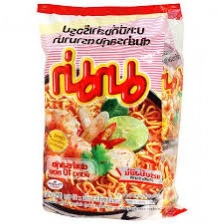snack: (30, 0, 195, 224)
